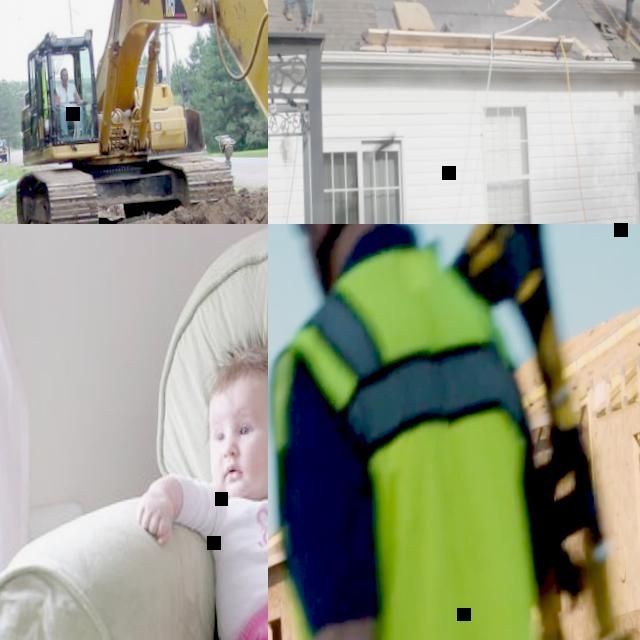NO-Hardhat: (206, 347, 268, 413), (59, 68, 70, 76)
NO-Mask: (214, 458, 266, 499), (61, 77, 69, 85)
NO-Safety Vest: (212, 492, 268, 636), (57, 84, 78, 106)
Person: (268, 224, 566, 640), (126, 338, 268, 640), (54, 65, 89, 136)
Safety Vest: (268, 238, 563, 640)
machinery: (0, 0, 268, 224)
vehicle: (0, 136, 8, 166)
